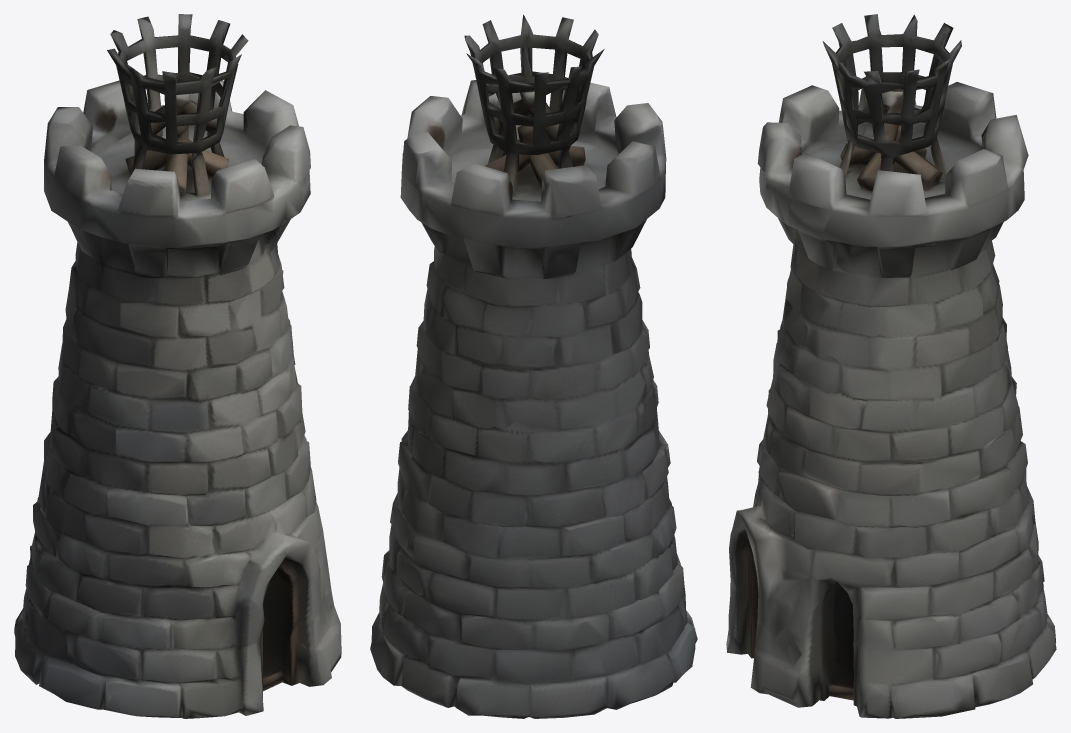
Rendered from beacon.glb.
3 renders of one model, left to right at view 1: azimuth 30°, elevation 25°; view 2: azimuth 150°, elevation 25°; view 3: azimuth 270°, elevation 25°, orthographic.
Visible parts, largest first — view 1: tripo_node_54462304-987f-4c0f-87b2-389539fd2793; view 2: tripo_node_54462304-987f-4c0f-87b2-389539fd2793; view 3: tripo_node_54462304-987f-4c0f-87b2-389539fd2793.
Boxes of the visible parts, x1=… form: tripo_node_54462304-987f-4c0f-87b2-389539fd2793: x1=14, y1=14, x2=341, y2=718; tripo_node_54462304-987f-4c0f-87b2-389539fd2793: x1=370, y1=14, x2=697, y2=718; tripo_node_54462304-987f-4c0f-87b2-389539fd2793: x1=726, y1=14, x2=1056, y2=718.
Size of the model in its own units: 0.4891 by 1 by 0.4917.
Materials: 1 (1 with a texture image).
